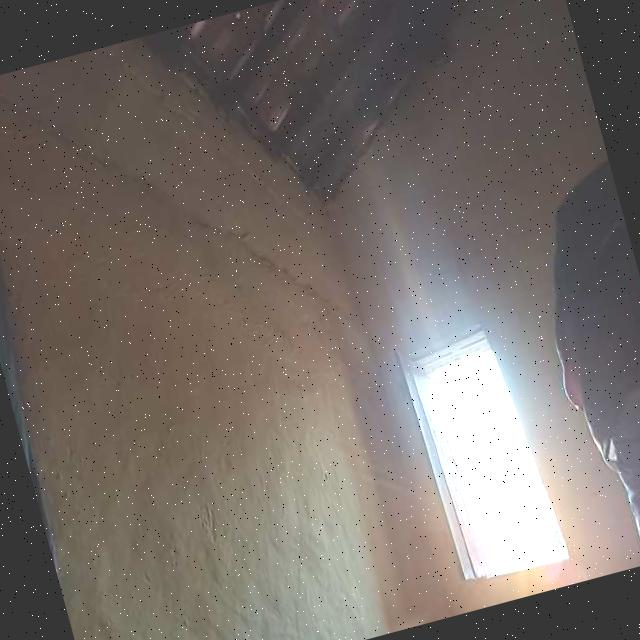pessoa: (519, 161, 640, 570)
